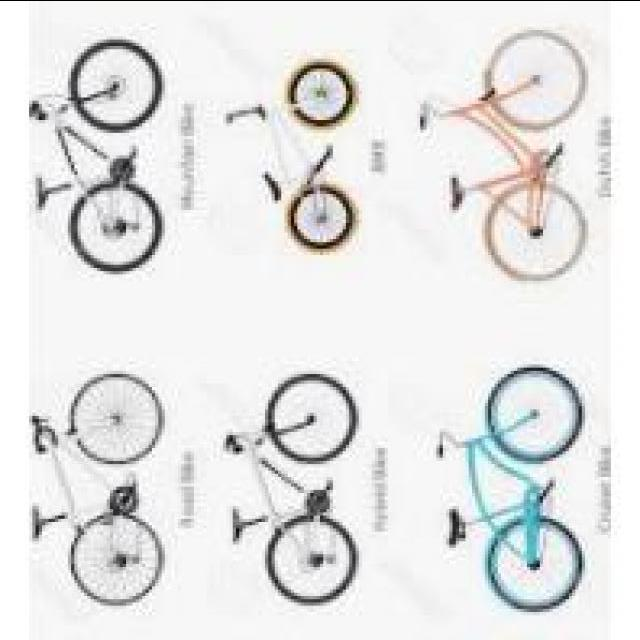bicycle: (415, 30, 593, 281), (437, 361, 585, 615), (27, 365, 166, 610), (224, 367, 360, 608), (30, 36, 162, 274), (230, 55, 360, 255)
